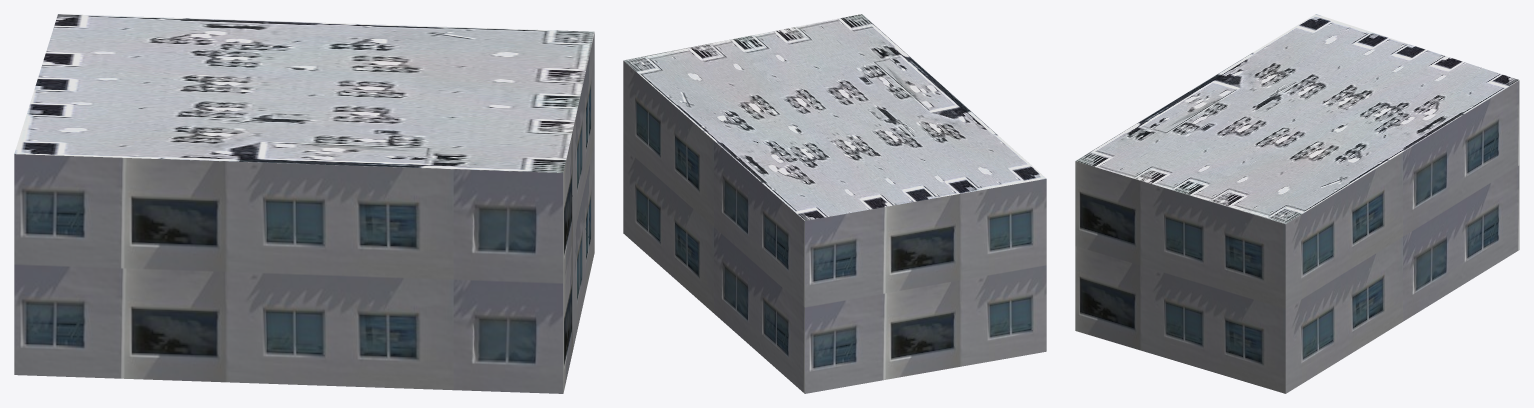
Rendered from ResTex__945.fbx.
3 views of the same model, side by side, from view 1: azimuth 30°, elevation 25°; view 2: azimuth 150°, elevation 25°; view 3: azimuth 270°, elevation 25° (orthographic). The views are drawn at different scales.
Parts seen in each view (by area): view 1: CityEngineMaterial_10_m, CityEngineMaterial_8_m; view 2: CityEngineMaterial_10_m, CityEngineMaterial_8_m; view 3: CityEngineMaterial_10_m, CityEngineMaterial_8_m.
Part boxes in pixels (x1,y1,x2,y2): CityEngineMaterial_10_m: (14,33,594,393); CityEngineMaterial_8_m: (14,14,594,172); CityEngineMaterial_10_m: (623,61,1046,393); CityEngineMaterial_8_m: (623,14,1046,220); CityEngineMaterial_10_m: (1075,80,1519,393); CityEngineMaterial_8_m: (1075,14,1519,224).
Size of the model in its own units: 15.94 by 6 by 14.24.
Materials: 2 (2 with a texture image).
